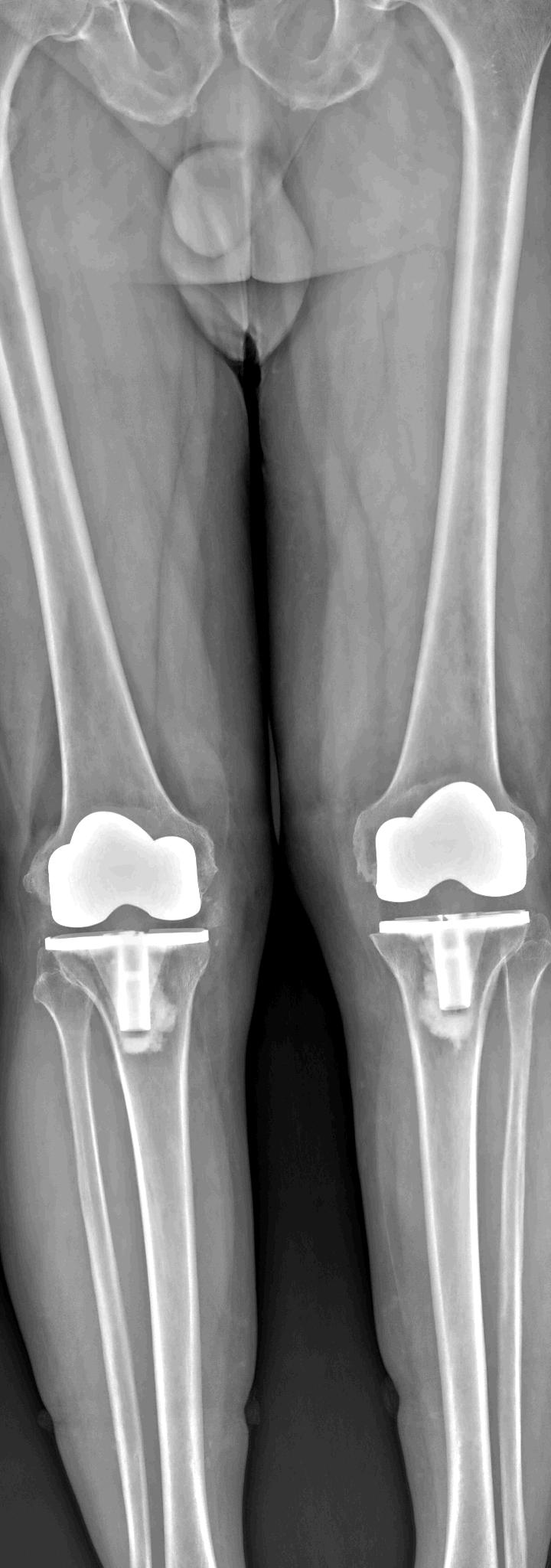Leg Fibula: (35, 960, 152, 1568), (499, 922, 551, 1568)
Leg Tibia: (47, 931, 215, 1568), (372, 912, 529, 1568)
femur: (0, 0, 216, 928), (354, 0, 551, 903)
